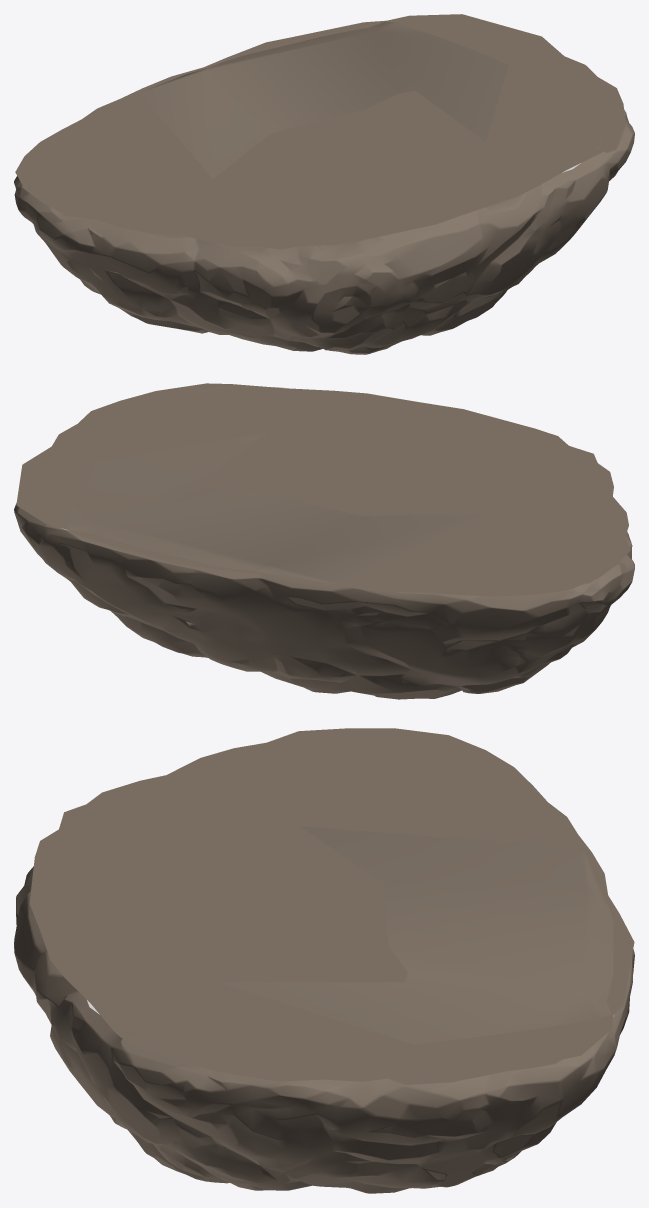
File: IlhaM2.fbx
3 renders of one model, top to bottom at view 1: azimuth 30°, elevation 25°; view 2: azimuth 150°, elevation 25°; view 3: azimuth 270°, elevation 25°, orthographic. The views are drawn at different scales.
Visible parts, largest first — view 1: IlhaM2, IlhaM2Colisor; view 2: IlhaM2, IlhaM2Colisor; view 3: IlhaM2Colisor, IlhaM2.
Part boxes in pixels (box(x1,y1,x2,y2)): IlhaM2: box(14, 21, 634, 354); IlhaM2Colisor: box(15, 14, 625, 249); IlhaM2: box(14, 386, 634, 699); IlhaM2Colisor: box(16, 383, 630, 596); IlhaM2Colisor: box(29, 728, 634, 1081); IlhaM2: box(14, 826, 634, 1193).
Bounding box in the file's own units: 3758 × 1137 × 2753.
